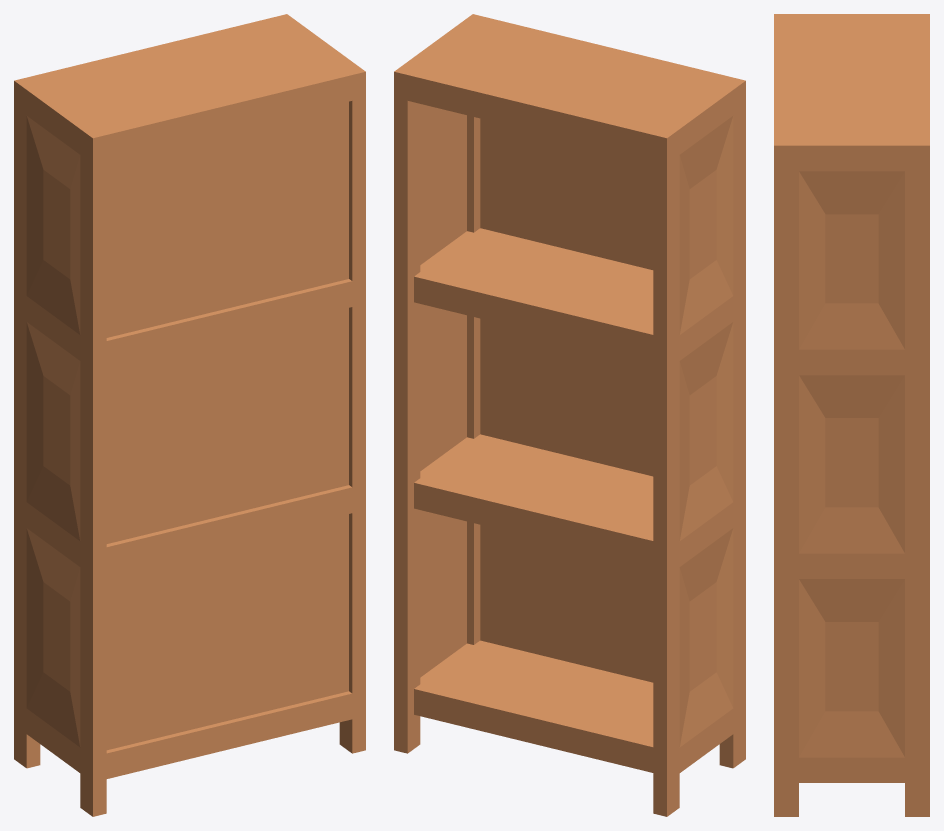
Rendered from furn-cabinet-tall-storage.glb.
The picture shows the model from 3 angles, left to right: view 1: azimuth 30°, elevation 25°; view 2: azimuth 150°, elevation 25°; view 3: azimuth 270°, elevation 25°; orthographic projection.
Parts seen in each view (by area): view 1: bookcaseClosedWide; view 2: bookcaseClosedWide; view 3: bookcaseClosedWide.
Part boxes in pixels (x1=…): bookcaseClosedWide: x1=14, y1=14, x2=365, y2=816; bookcaseClosedWide: x1=394, y1=14, x2=745, y2=816; bookcaseClosedWide: x1=774, y1=14, x2=929, y2=816.
Bounding box in the file's own units: 0.8 × 1.9 × 0.4.
